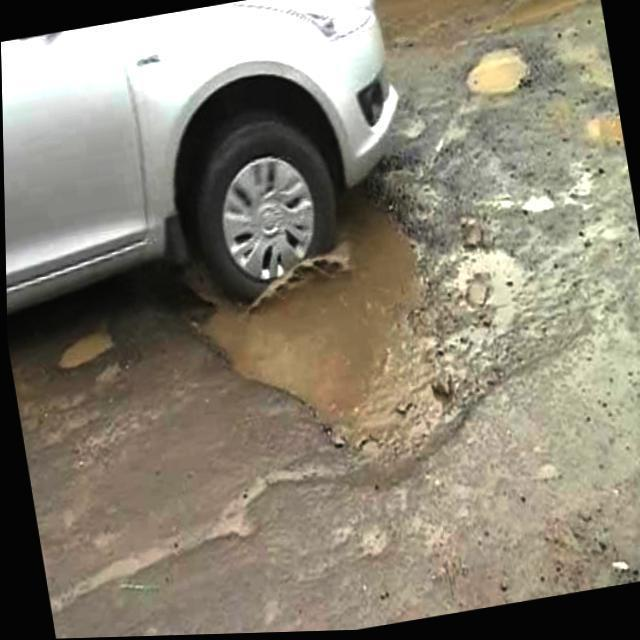Pothole: (155, 175, 469, 466), (451, 35, 541, 107)
